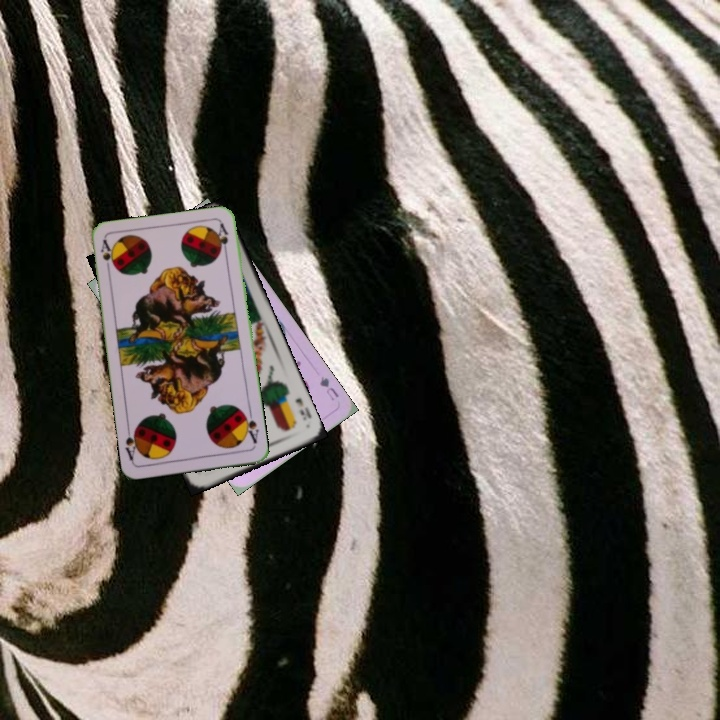EK: (291, 394, 314, 423)
GU: (315, 372, 342, 403)
SA: (96, 236, 118, 277), (239, 407, 261, 446)
